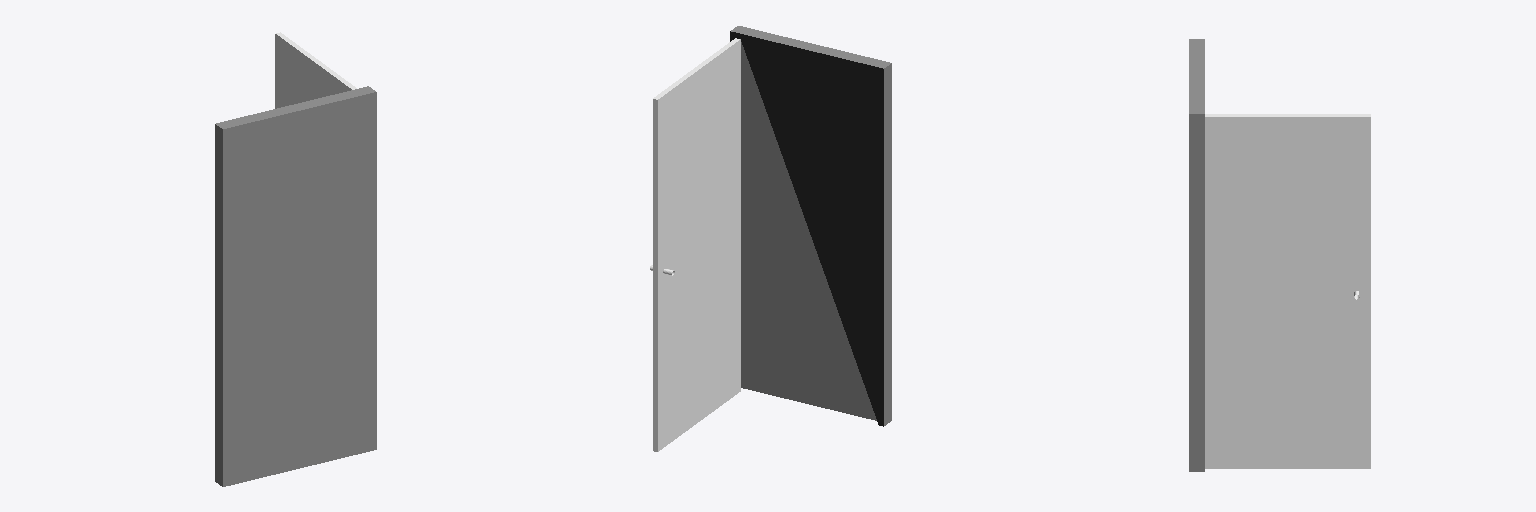
The model's file is porte.obj.
3 renders of one model, left to right at view 1: azimuth 30°, elevation 25°; view 2: azimuth 150°, elevation 25°; view 3: azimuth 270°, elevation 25°, orthographic.
Visible parts, largest first — view 1: Mesh1 porte_en_bois_avec_interrupteur_prise_sans_terre1 Model; view 2: Mesh1 porte_en_bois_avec_interrupteur_prise_sans_terre1 Model; view 3: Mesh1 porte_en_bois_avec_interrupteur_prise_sans_terre1 Model.
Part boxes in pixels (x1,y1,x2,y2): Mesh1 porte_en_bois_avec_interrupteur_prise_sans_terre1 Model: (215,32,376,486); Mesh1 porte_en_bois_avec_interrupteur_prise_sans_terre1 Model: (653,26,891,451); Mesh1 porte_en_bois_avec_interrupteur_prise_sans_terre1 Model: (1189,39,1370,471).
Bounding box in the file's own units: 0.9189 × 2 × 0.92.